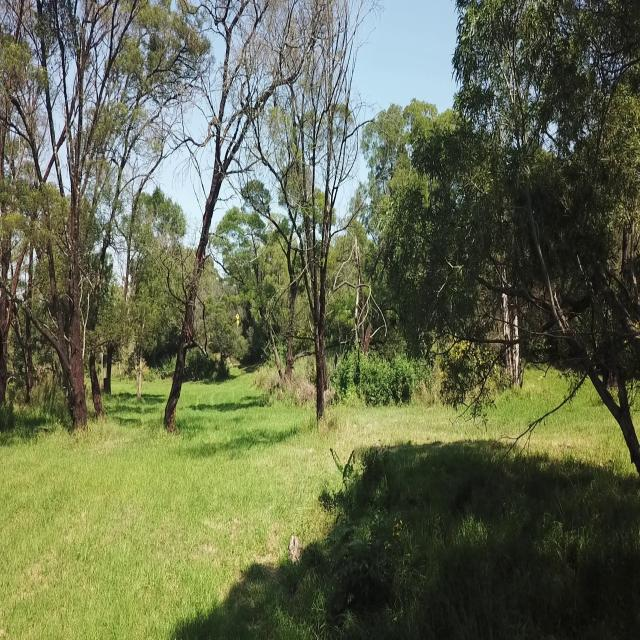Mysore-Thorn-Weed: (314, 446, 385, 608)
